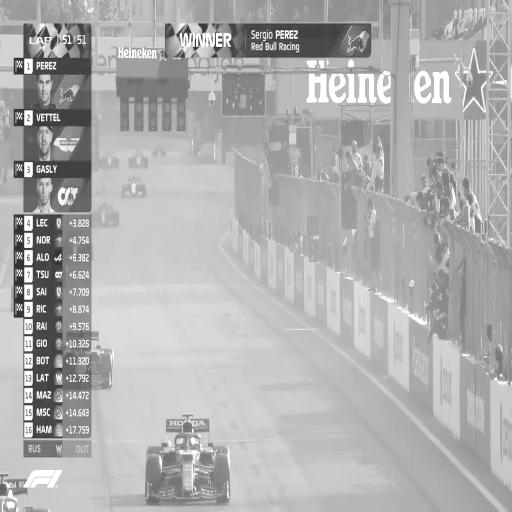f1_car: (145, 413, 230, 503), (63, 331, 114, 388), (0, 472, 50, 511), (91, 201, 119, 227), (122, 176, 146, 197), (128, 153, 148, 169), (99, 155, 119, 168), (151, 146, 166, 155)
